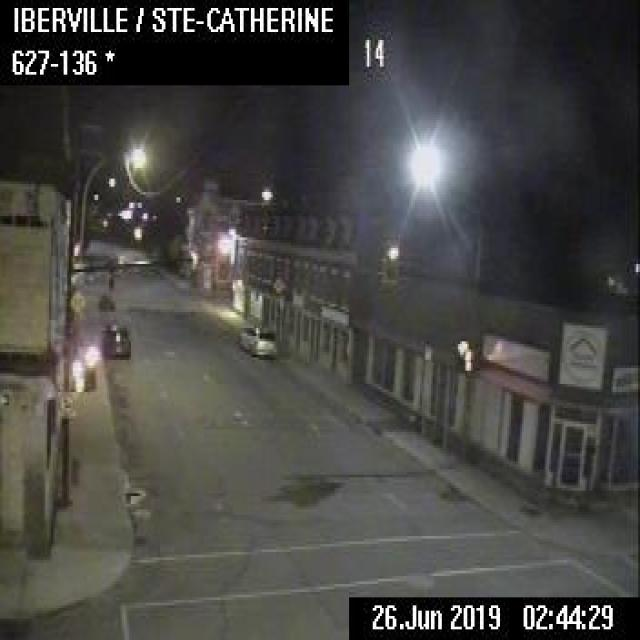vehicle: (238, 320, 276, 354), (100, 320, 130, 358)
